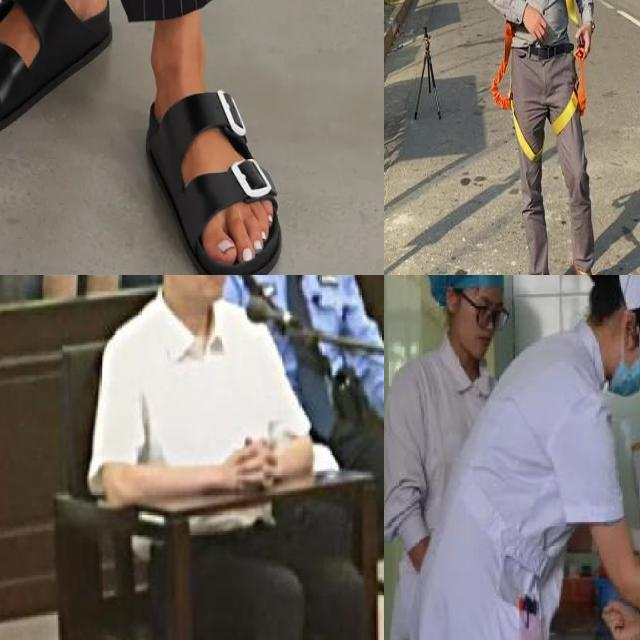Harness: (491, 23, 542, 162), (552, 50, 587, 136)
Sandals: (144, 32, 282, 275), (0, 0, 114, 144)
face_mask: (602, 323, 640, 404)
face_nomask: (450, 284, 512, 349), (184, 275, 235, 298)
hand_noglove: (230, 436, 276, 490), (601, 597, 639, 640)
head_nohelmet: (431, 275, 510, 304)
person: (91, 275, 364, 640), (441, 275, 640, 640), (222, 275, 384, 640), (390, 275, 505, 551)
